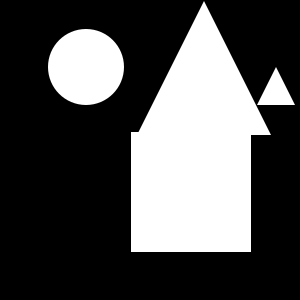circle: (131, 132, 251, 252)
rectangle: (48, 29, 124, 105)
triangle: (137, 1, 271, 135), (257, 67, 295, 105)
